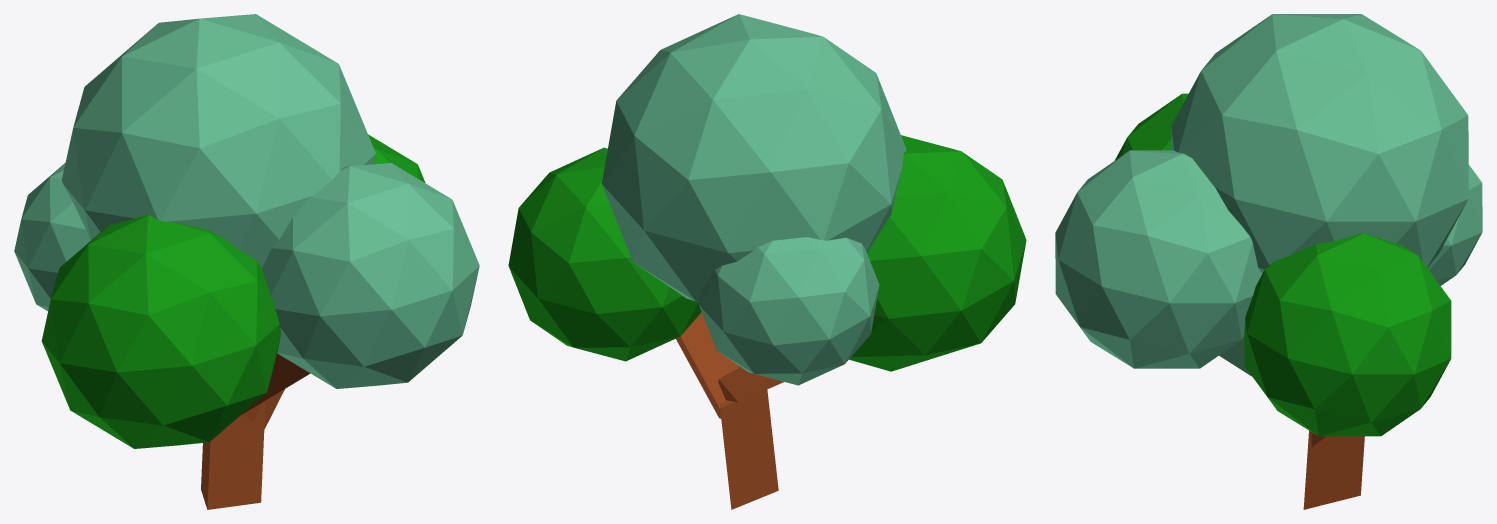
3 renders of one model, left to right at view 1: azimuth 30°, elevation 25°; view 2: azimuth 150°, elevation 25°; view 3: azimuth 270°, elevation 25°, orthographic. The views are drawn at different scales.
Visible parts, largest first — view 1: Icosphere.008; view 2: Icosphere.008; view 3: Icosphere.008.
Boxes of the visible parts, <box> form: Icosphere.008: <box>14,14,479,509</box>; Icosphere.008: <box>508,14,1026,509</box>; Icosphere.008: <box>1055,14,1482,509</box>.
Bounding box in the file's own units: 12.99 × 13.59 × 11.16.
